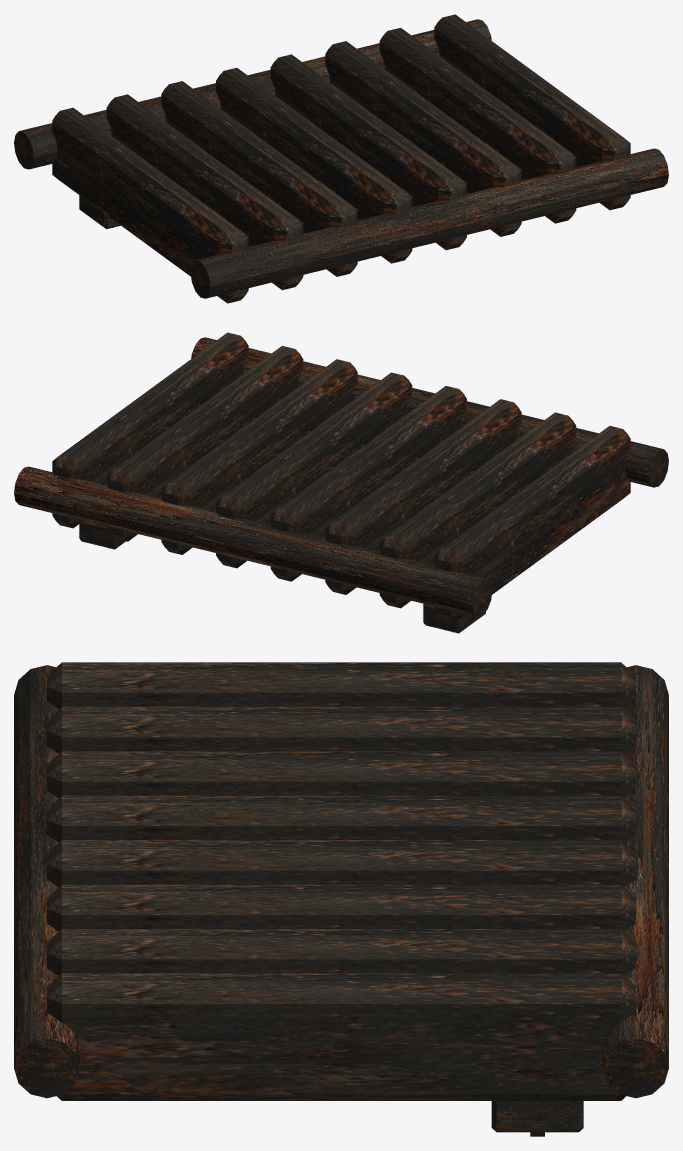
File: level1_radiator_remodel.glb
3 renders of one model, top to bottom at view 1: azimuth 30°, elevation 25°; view 2: azimuth 150°, elevation 25°; view 3: azimuth 270°, elevation 25°, orthographic. The views are drawn at different scales.
Visible parts, largest first — view 1: RadiatorBottomRail, RadiatorFin_01, RadiatorFin_07, RadiatorFin_02, RadiatorFin_04, RadiatorFin_08, RadiatorFin_05, RadiatorFin_03, RadiatorFin_06, RadiatorTopRail, RadiatorBracket_-0.27; view 2: RadiatorTopRail, RadiatorFin_01, RadiatorFin_07, RadiatorFin_02, RadiatorFin_04, RadiatorFin_05, RadiatorFin_08, RadiatorFin_03, RadiatorFin_06, RadiatorBottomRail, RadiatorBracket_-0.27, RadiatorBracket_0.27; view 3: RadiatorFin_08, RadiatorFin_02, RadiatorFin_01, RadiatorFin_06, RadiatorFin_04, RadiatorFin_05, RadiatorFin_03, RadiatorFin_07, RadiatorBottomRail, RadiatorTopRail, RadiatorBracket_0.27.
Part boxes in pixels (bbox=[...]): RadiatorBottomRail: bbox=[190, 148, 668, 298]; RadiatorFin_01: bbox=[52, 107, 248, 303]; RadiatorFin_07: bbox=[379, 27, 576, 223]; RadiatorFin_02: bbox=[106, 94, 303, 290]; RadiatorFin_04: bbox=[216, 67, 412, 263]; RadiatorFin_08: bbox=[434, 14, 630, 210]; RadiatorFin_05: bbox=[270, 54, 466, 250]; RadiatorFin_03: bbox=[161, 81, 357, 276]; RadiatorFin_06: bbox=[325, 41, 521, 236]; RadiatorTopRail: bbox=[14, 19, 491, 169]; RadiatorBracket_-0.27: bbox=[79, 195, 120, 229]; RadiatorTopRail: bbox=[14, 466, 492, 616]; RadiatorFin_01: bbox=[434, 426, 630, 621]; RadiatorFin_07: bbox=[106, 346, 303, 541]; RadiatorFin_02: bbox=[379, 412, 576, 608]; RadiatorFin_04: bbox=[270, 386, 466, 581]; RadiatorFin_05: bbox=[216, 372, 412, 568]; RadiatorFin_08: bbox=[52, 332, 248, 528]; RadiatorFin_03: bbox=[325, 399, 521, 594]; RadiatorFin_06: bbox=[161, 359, 357, 554]; RadiatorBottomRail: bbox=[191, 337, 668, 487]; RadiatorBracket_-0.27: bbox=[423, 604, 485, 633]; RadiatorBracket_0.27: bbox=[79, 521, 125, 549]; RadiatorFin_08: bbox=[47, 973, 635, 1100]; RadiatorFin_02: bbox=[47, 706, 635, 753]; RadiatorFin_01: bbox=[47, 662, 635, 709]; RadiatorFin_06: bbox=[47, 884, 635, 931]; RadiatorFin_04: bbox=[47, 795, 635, 842]; RadiatorFin_05: bbox=[47, 840, 635, 886]; RadiatorFin_03: bbox=[47, 751, 635, 797]; RadiatorFin_07: bbox=[47, 929, 635, 975]; RadiatorBottomRail: bbox=[14, 665, 80, 1098]; RadiatorTopRail: bbox=[602, 665, 668, 1098]; RadiatorBracket_0.27: bbox=[491, 1101, 583, 1132].
Size of the model in its own units: 0.72 by 0.1555 by 0.534.
Materials: 1 (1 with a texture image).
